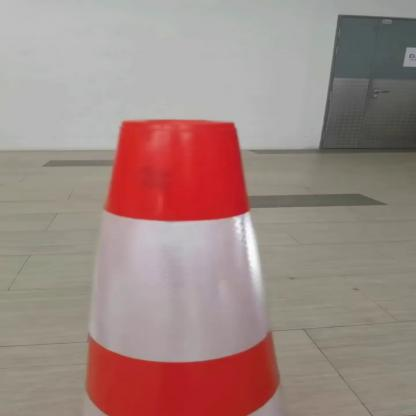cone: (30, 114, 316, 416)
